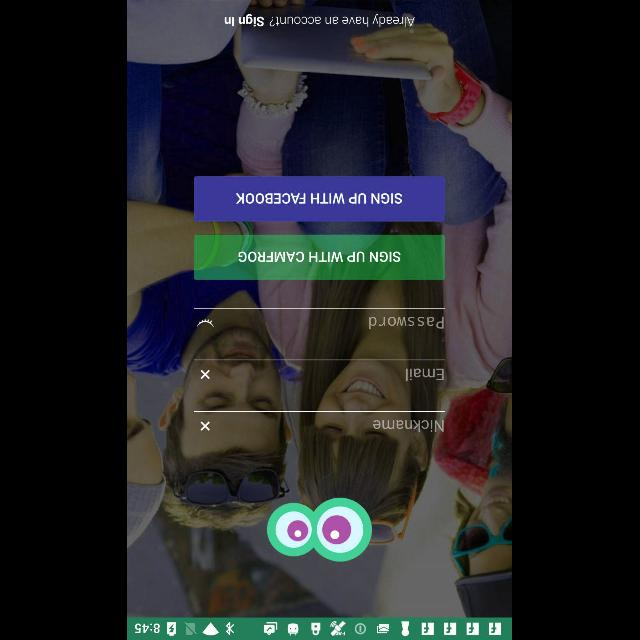backgroundimage: (128, 0, 512, 618)
icon: (201, 369, 211, 379), (201, 421, 211, 431)
image: (268, 498, 372, 562), (198, 319, 215, 327)
input: (194, 359, 446, 381), (194, 307, 446, 329), (194, 411, 446, 432)
text: (224, 14, 416, 26), (370, 316, 444, 329), (374, 420, 444, 432), (407, 368, 445, 380)
textbutton: (194, 234, 446, 280), (194, 176, 446, 222)
uppertaskbar: (128, 617, 512, 639)
